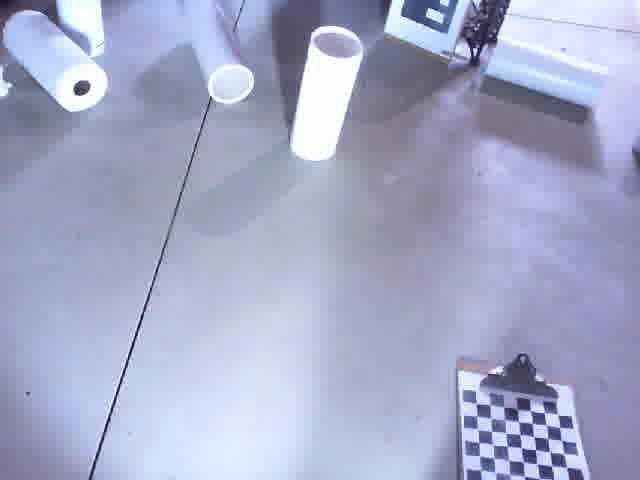coral: (286, 18, 373, 169), (484, 30, 616, 114), (185, 0, 258, 105)
